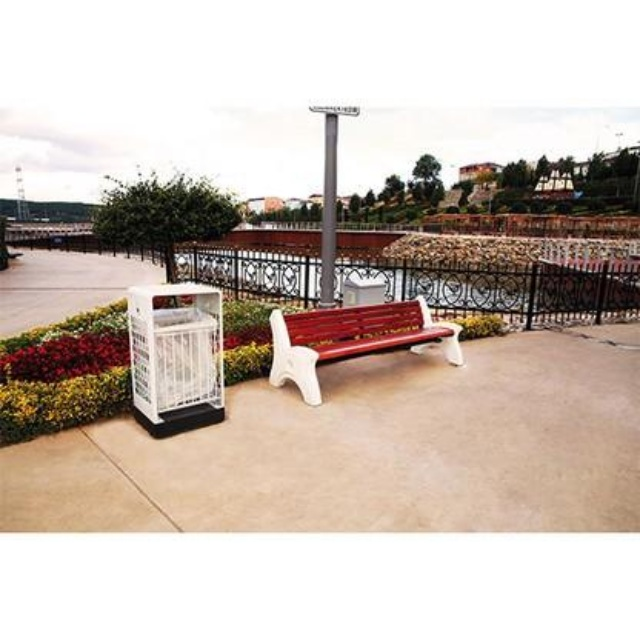obstacle: (246, 295, 483, 377)
